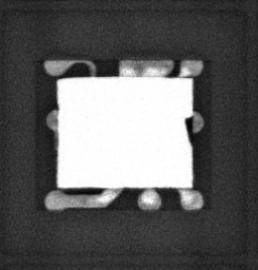DIE_BROKEN: (183, 113, 194, 146)
